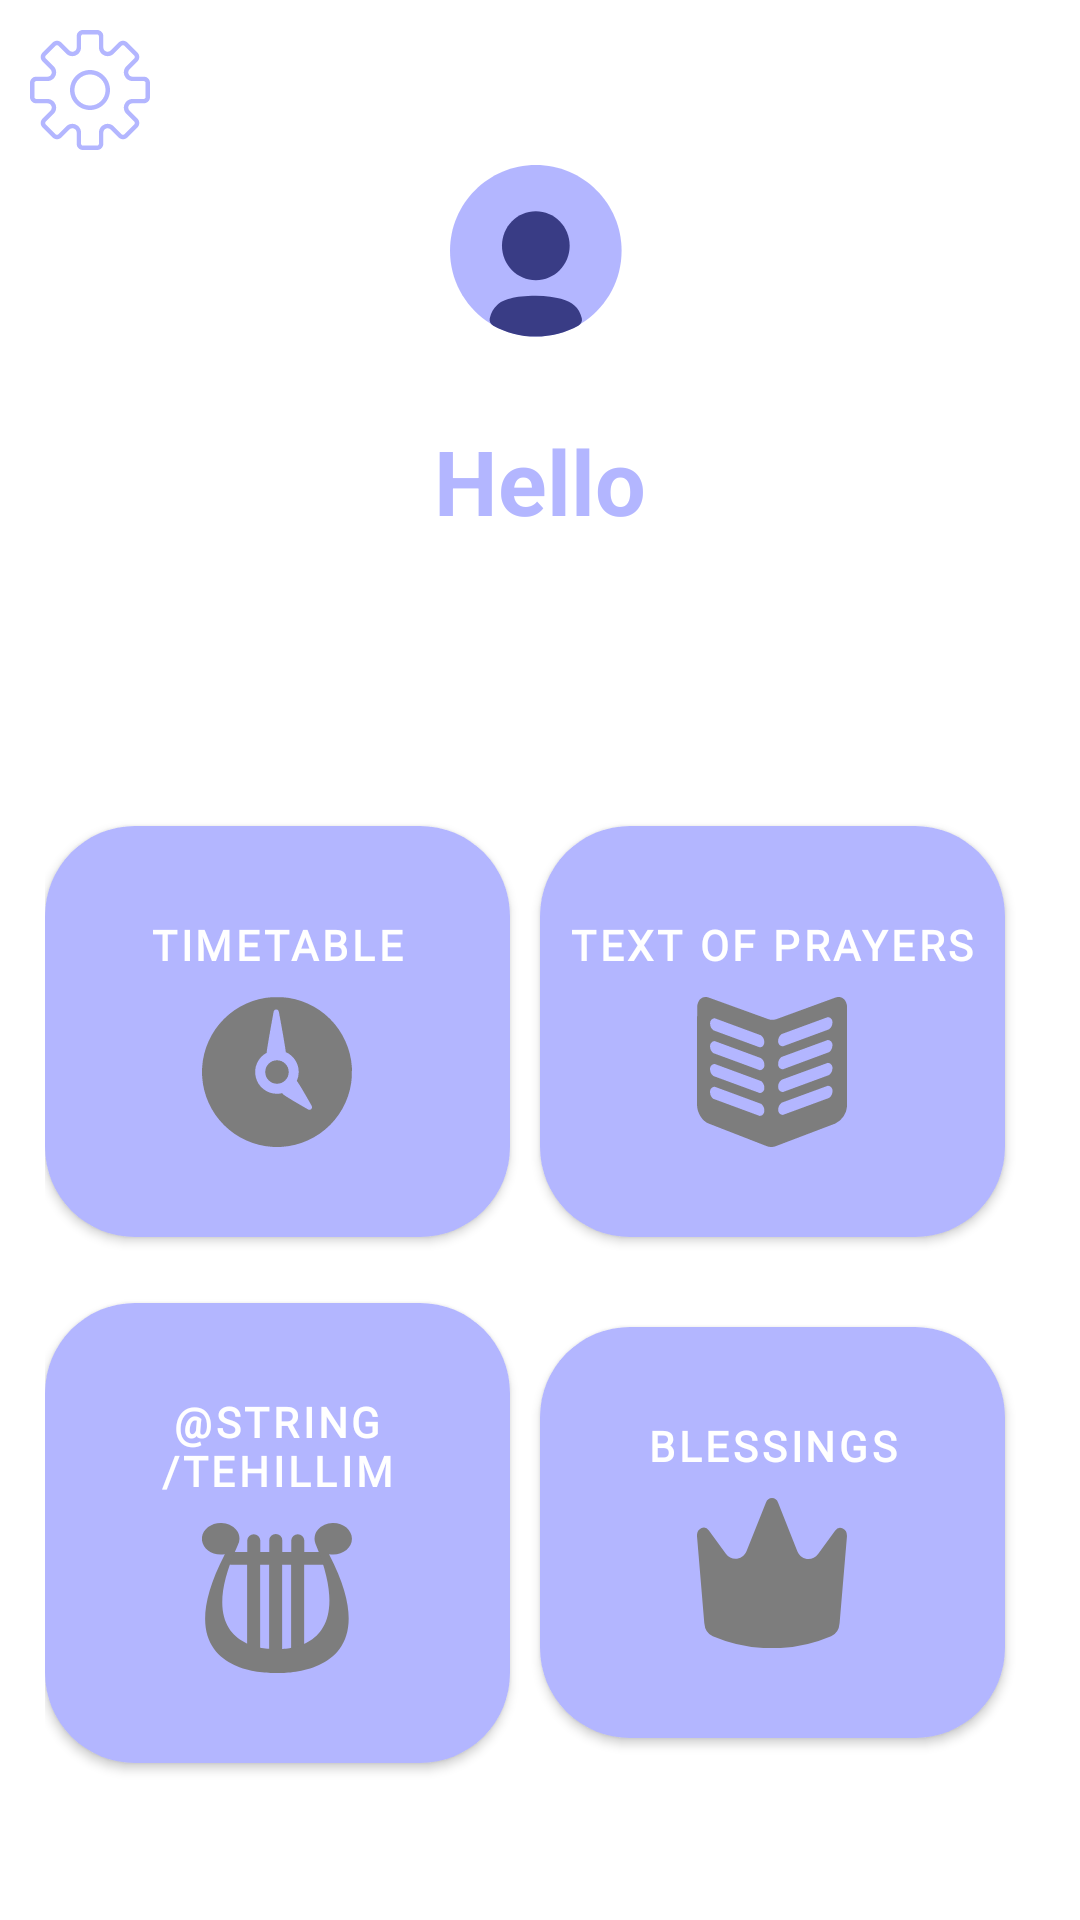

Locate icon controls on the screen. Image size 1080x1920, boxes as (x1, y1, x2, y2).
profile photo: (450, 165, 622, 337)
settings: (30, 30, 150, 150)
